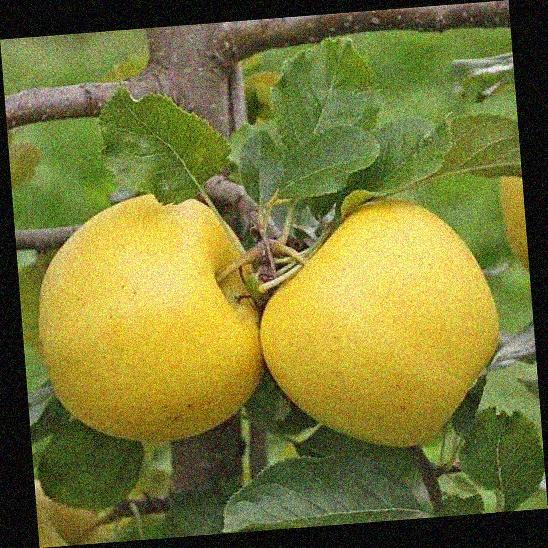green apple: (36, 194, 263, 458), (265, 194, 500, 447)
